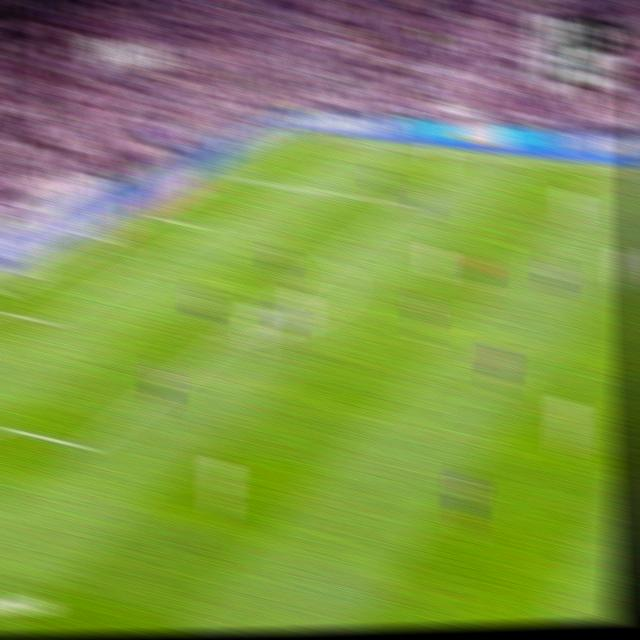bigarea_bottom_inner: (72, 430, 98, 461)
bigarea_top_inner: (396, 196, 414, 211)
bottom_arc_area_intersection: (213, 328, 236, 352)
corner: (291, 129, 313, 142)
smallarea_top_inner: (200, 220, 218, 235)
top_arc_area_intersection: (322, 247, 344, 268)
